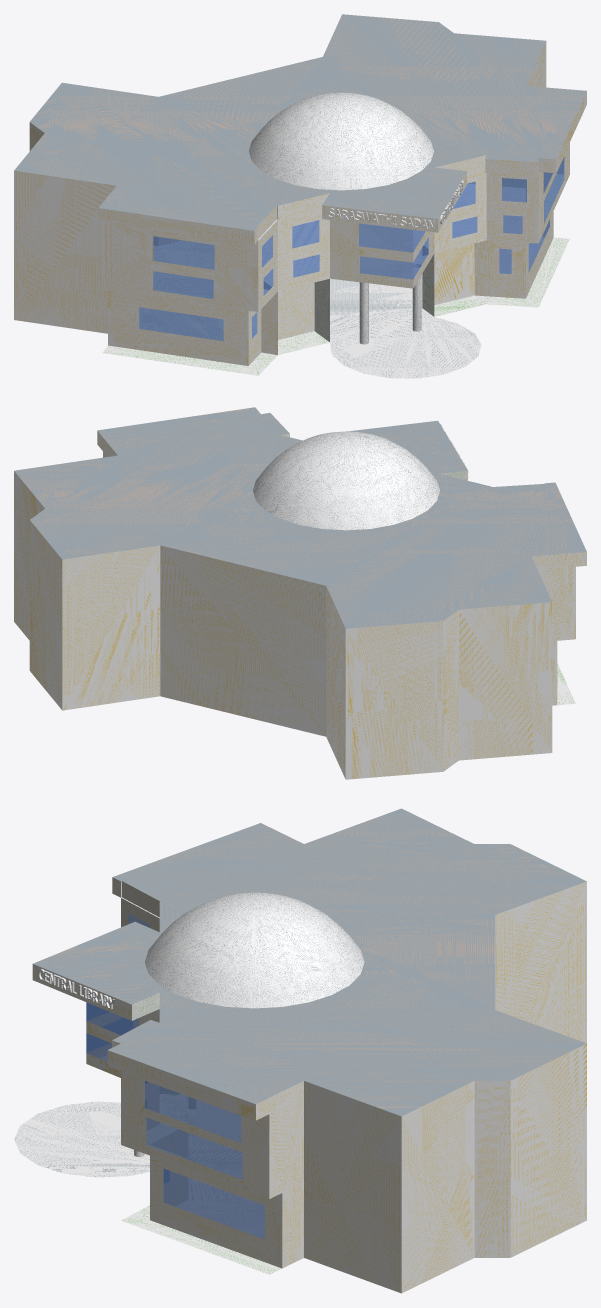
The model's file is library.fbx.
The picture shows the model from 3 angles, top to bottom: view 1: azimuth 30°, elevation 25°; view 2: azimuth 150°, elevation 25°; view 3: azimuth 270°, elevation 25°; orthographic projection. The views are drawn at different scales.
Parts seen in each view (by area): view 1: Model, SARASWATHI_SADAN1; view 2: Model; view 3: Model, CENTRAL_LIBRARY1.
Boxes of the visible parts, bbox=[...] form: Model: bbox=[14, 14, 586, 378]; SARASWATHI_SADAN1: bbox=[328, 208, 434, 229]; Model: bbox=[14, 407, 586, 779]; Model: bbox=[14, 808, 586, 1293]; CENTRAL_LIBRARY1: bbox=[38, 969, 114, 1009].
Bounding box in the file's own units: 939 × 335 × 739.
